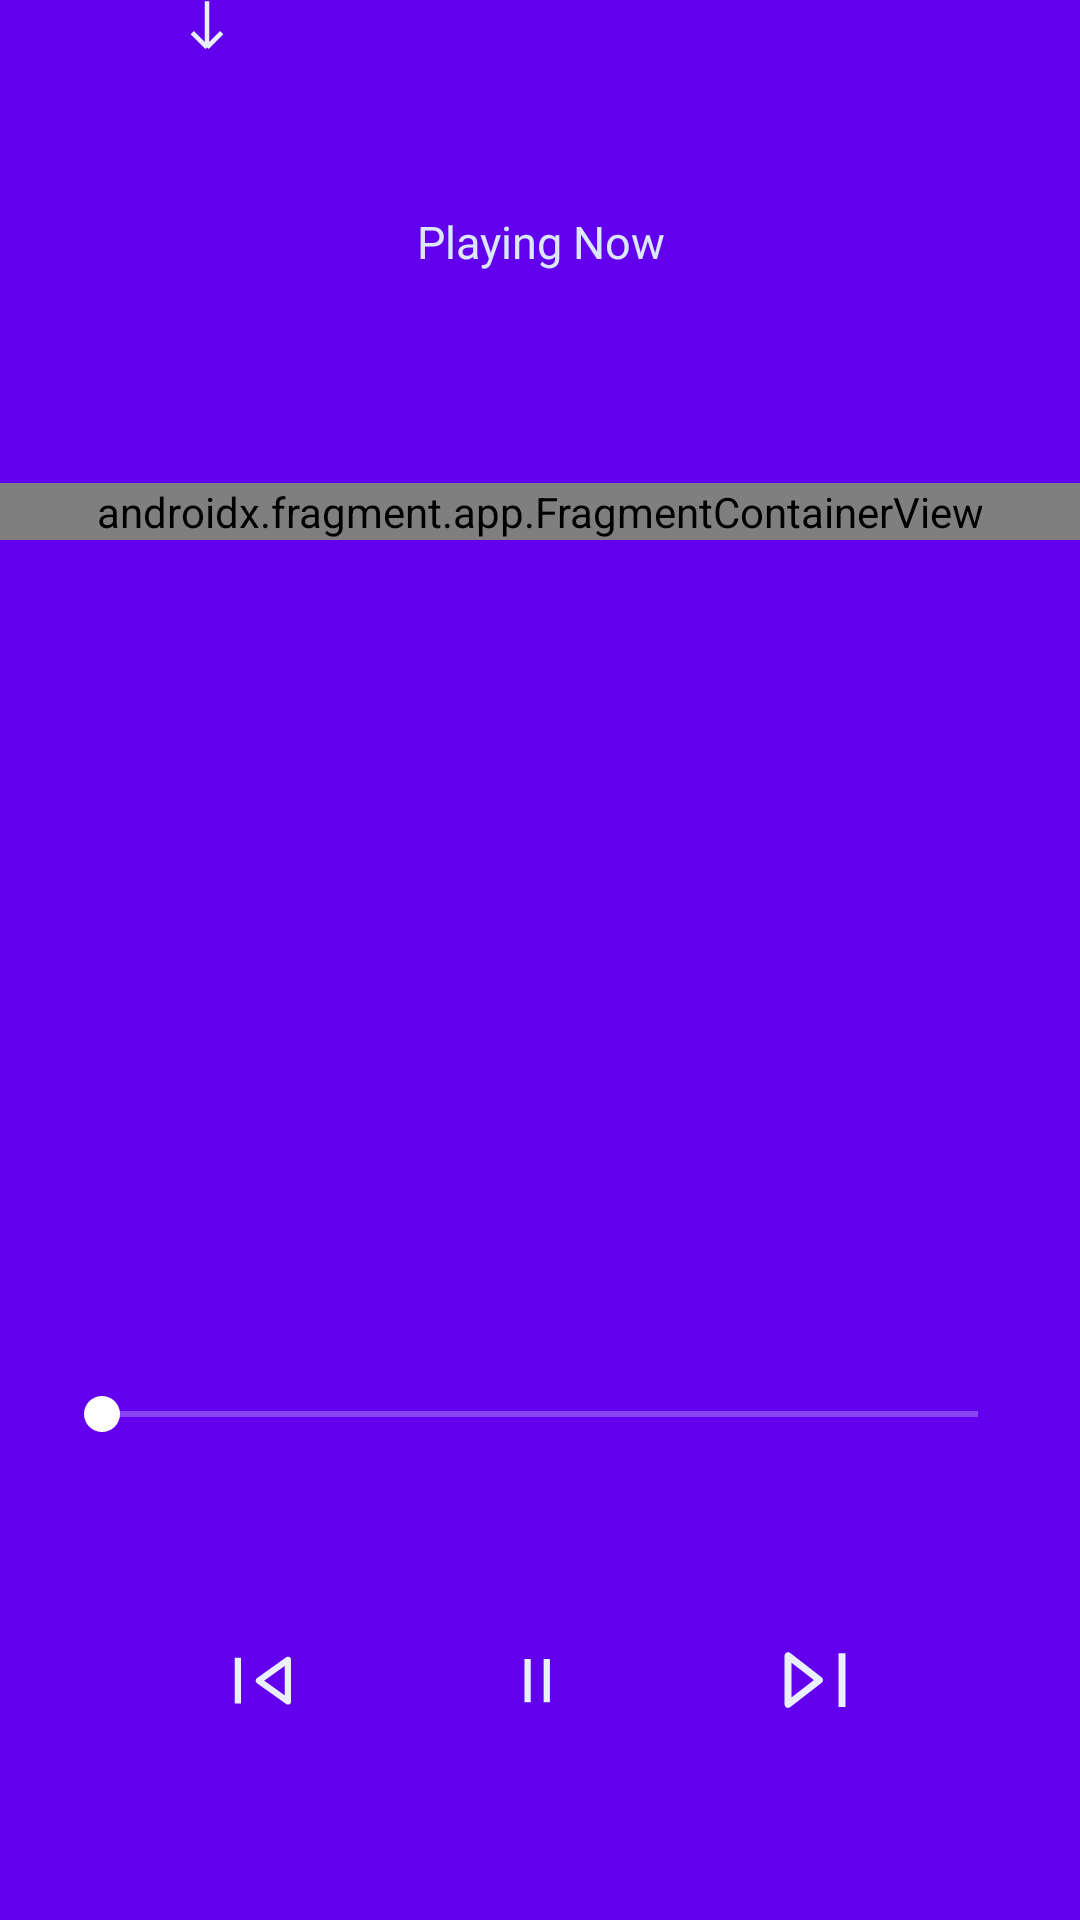

Locate icon controls on the screen. Image size 1080 x 1920, boxes as [x1=x1, y1=y1, x2=x2, y2=y2].
hide player: [x1=190, y1=1, x2=224, y2=49]
next song button: [x1=784, y1=1652, x2=846, y2=1708]
play/pause button: [x1=524, y1=1659, x2=550, y2=1703]
previous song button: [x1=234, y1=1656, x2=291, y2=1705]
